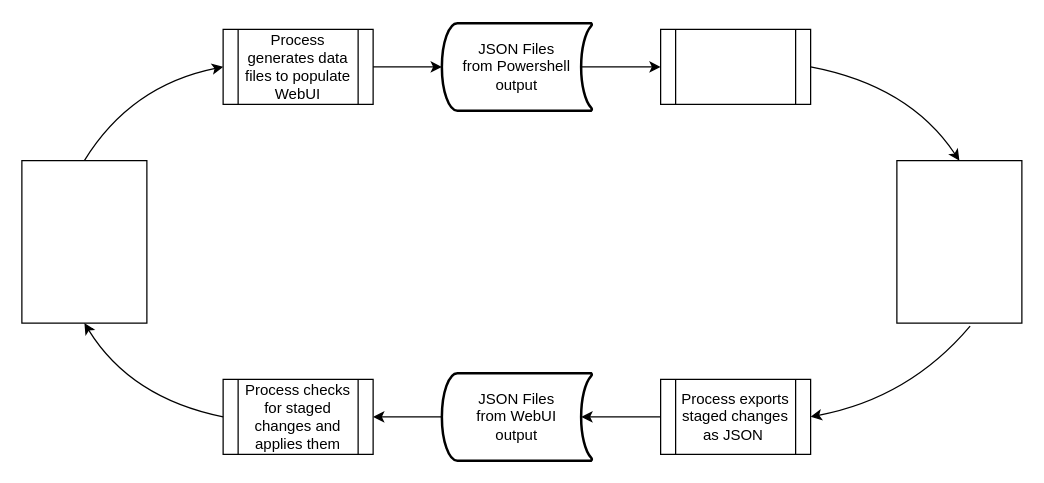
Image size: 1044x483. Some labels were removed from this diagram. The shapes that lost their labels are listed below. From the top down, each one's centre as x and y in pixels, then its label:
At [735,66]: "Process imports JSON and populates WebUI".
At [84,241]: "Windows Server Running Powershell scripts".
At [959,241]: "Linux Server Runs Nginx, HTML, CSS, Javascript, and Bootstrap".
